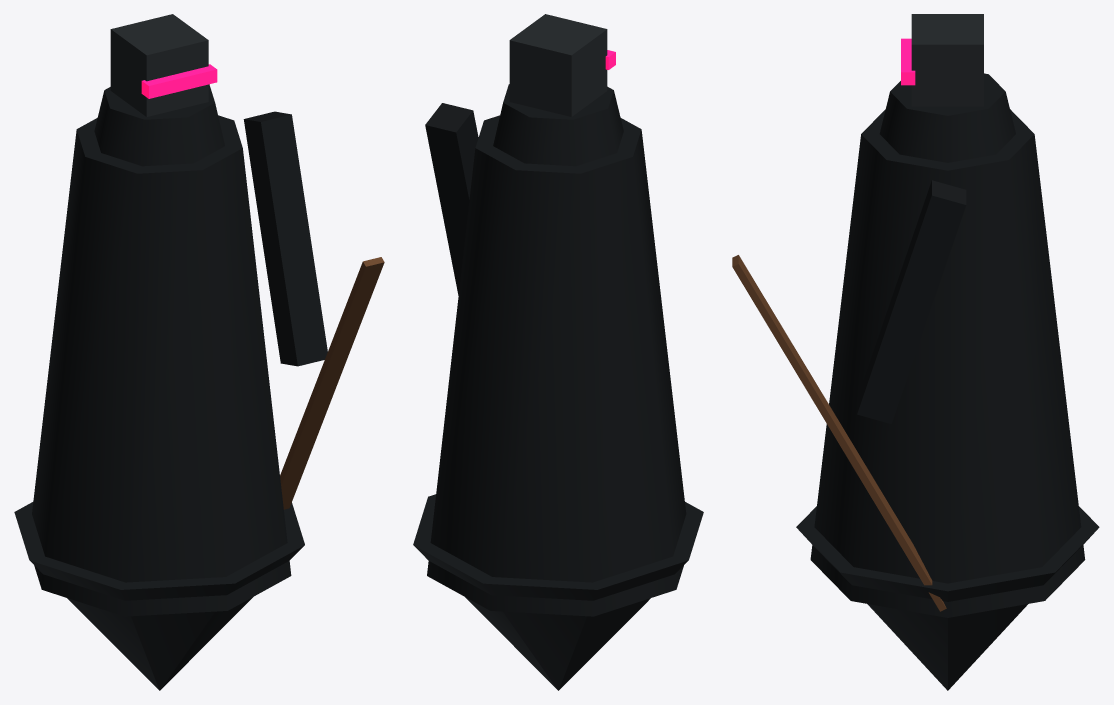
Rendered from CB_PVE_ErasedStalker_A.glb.
3 renders of one model, left to right at view 1: azimuth 30°, elevation 25°; view 2: azimuth 150°, elevation 25°; view 3: azimuth 270°, elevation 25°, orthographic.
Visible parts, largest first — view 1: CB_PVE_ErasedStalker_A; view 2: CB_PVE_ErasedStalker_A; view 3: CB_PVE_ErasedStalker_A.
Boxes of the visible parts, x1=… form: CB_PVE_ErasedStalker_A: x1=14, y1=14, x2=384, y2=690; CB_PVE_ErasedStalker_A: x1=413, y1=14, x2=703, y2=690; CB_PVE_ErasedStalker_A: x1=732, y1=14, x2=1099, y2=690.
Size of the model in its own units: 0.84 by 2.02 by 1.02.
